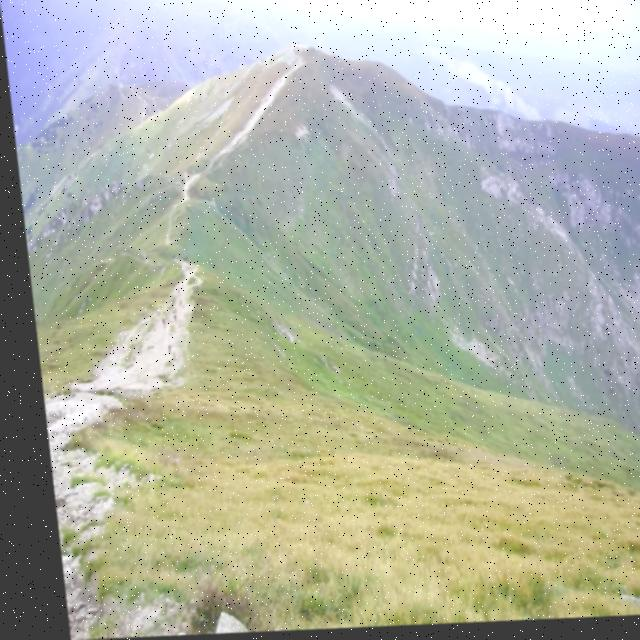Kopa Kondracka: (214, 0, 390, 108)
